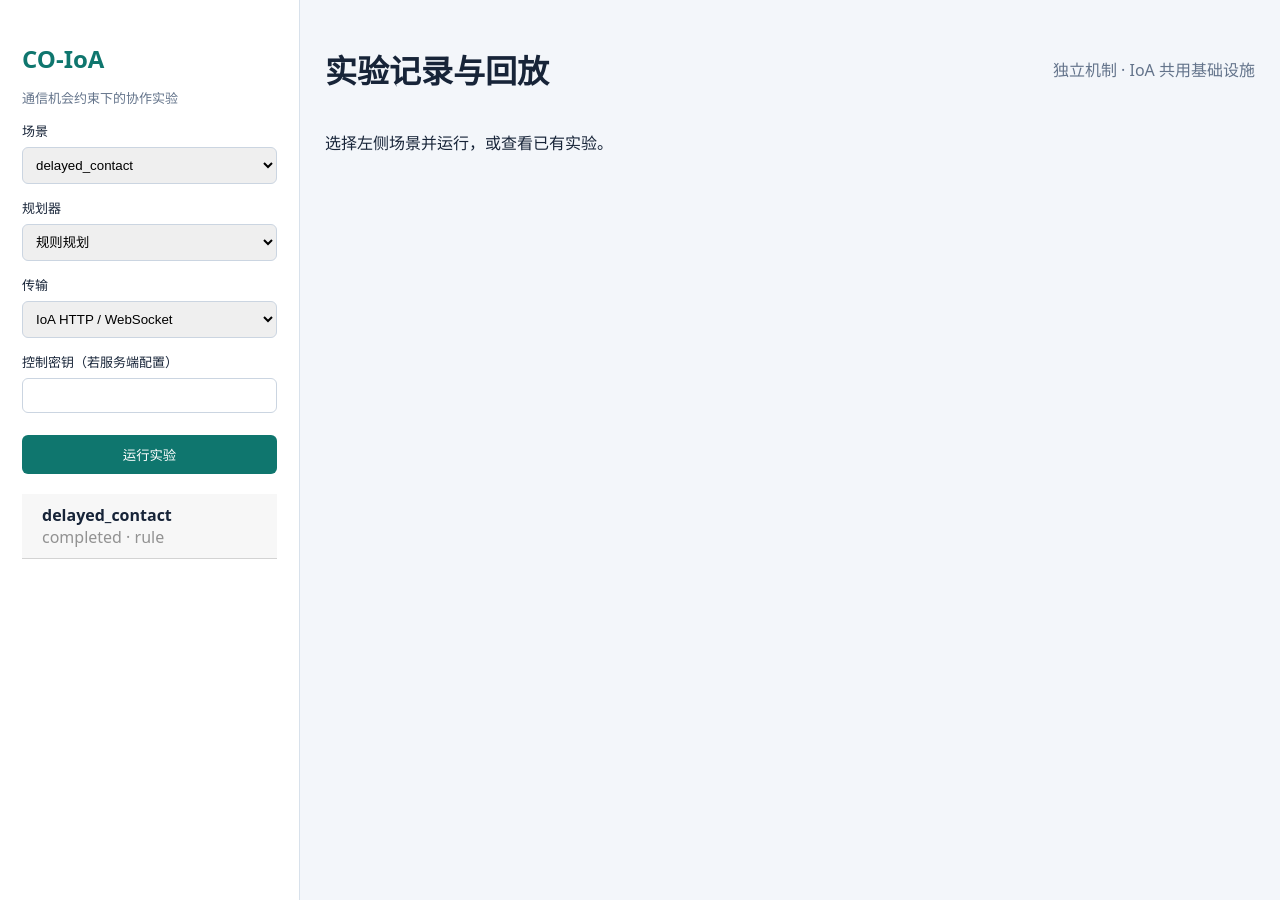
Scenario: shows completed task timing, windows and event replay
Click the text "completed · rule" at (107, 537), box [42,526,172,548]
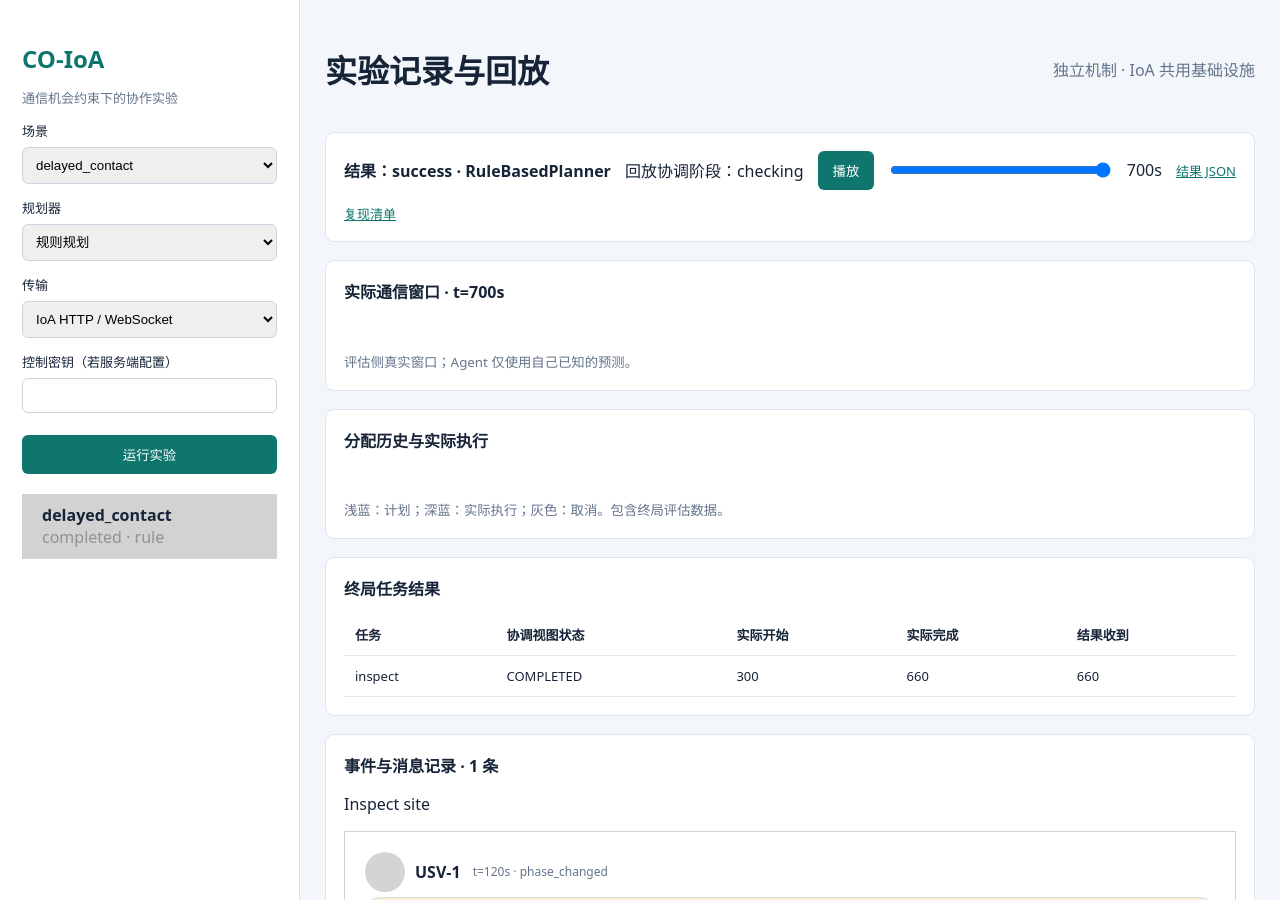
expect the heading "终局任务结果" is shown: met, box [344,578,440,600]
expect the slider named "仿真时间" is shown: met, box [890,162,1111,178]
expect the text "COMPLETED" is shown: met, box [496,655,726,696]
